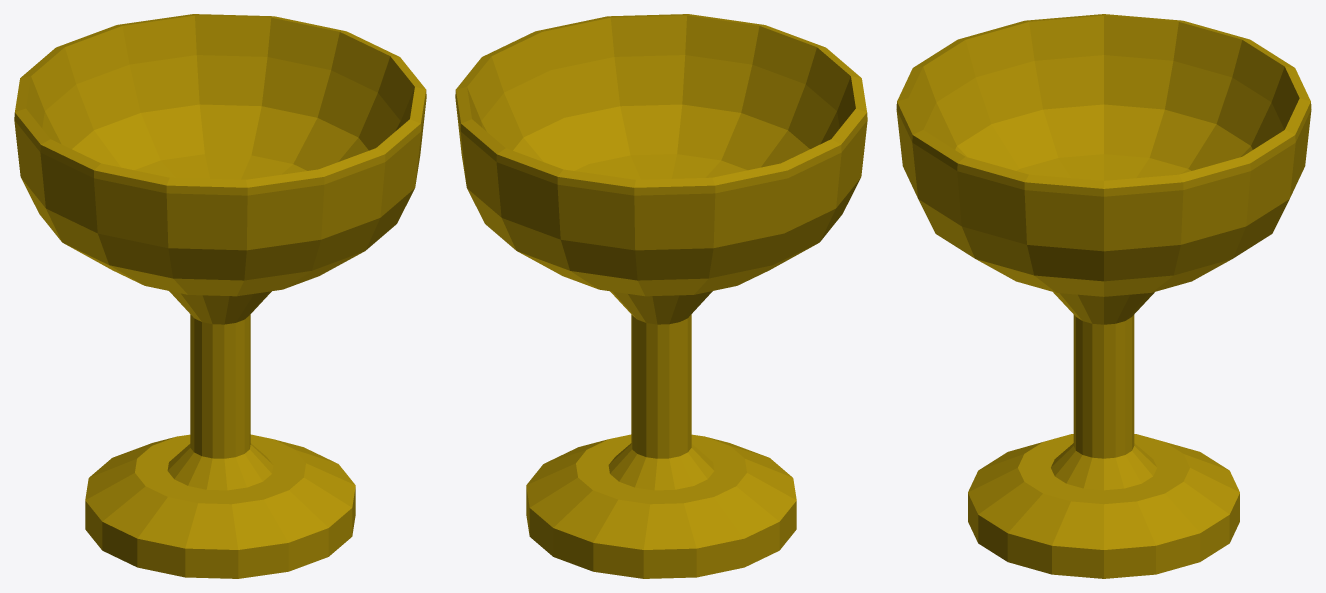
Rendered from Trophy.fbx.
The picture shows the model from 3 angles, left to right: view 1: azimuth 30°, elevation 25°; view 2: azimuth 150°, elevation 25°; view 3: azimuth 270°, elevation 25°; orthographic projection.
Visible parts, largest first — view 1: Cylinder; view 2: Cylinder; view 3: Cylinder.
Part boxes in pixels (bbox=[...]): Cylinder: bbox=[14, 14, 426, 578]; Cylinder: bbox=[455, 14, 867, 578]; Cylinder: bbox=[896, 14, 1311, 578].
Bounding box in the file's own units: 125 × 141 × 125.
